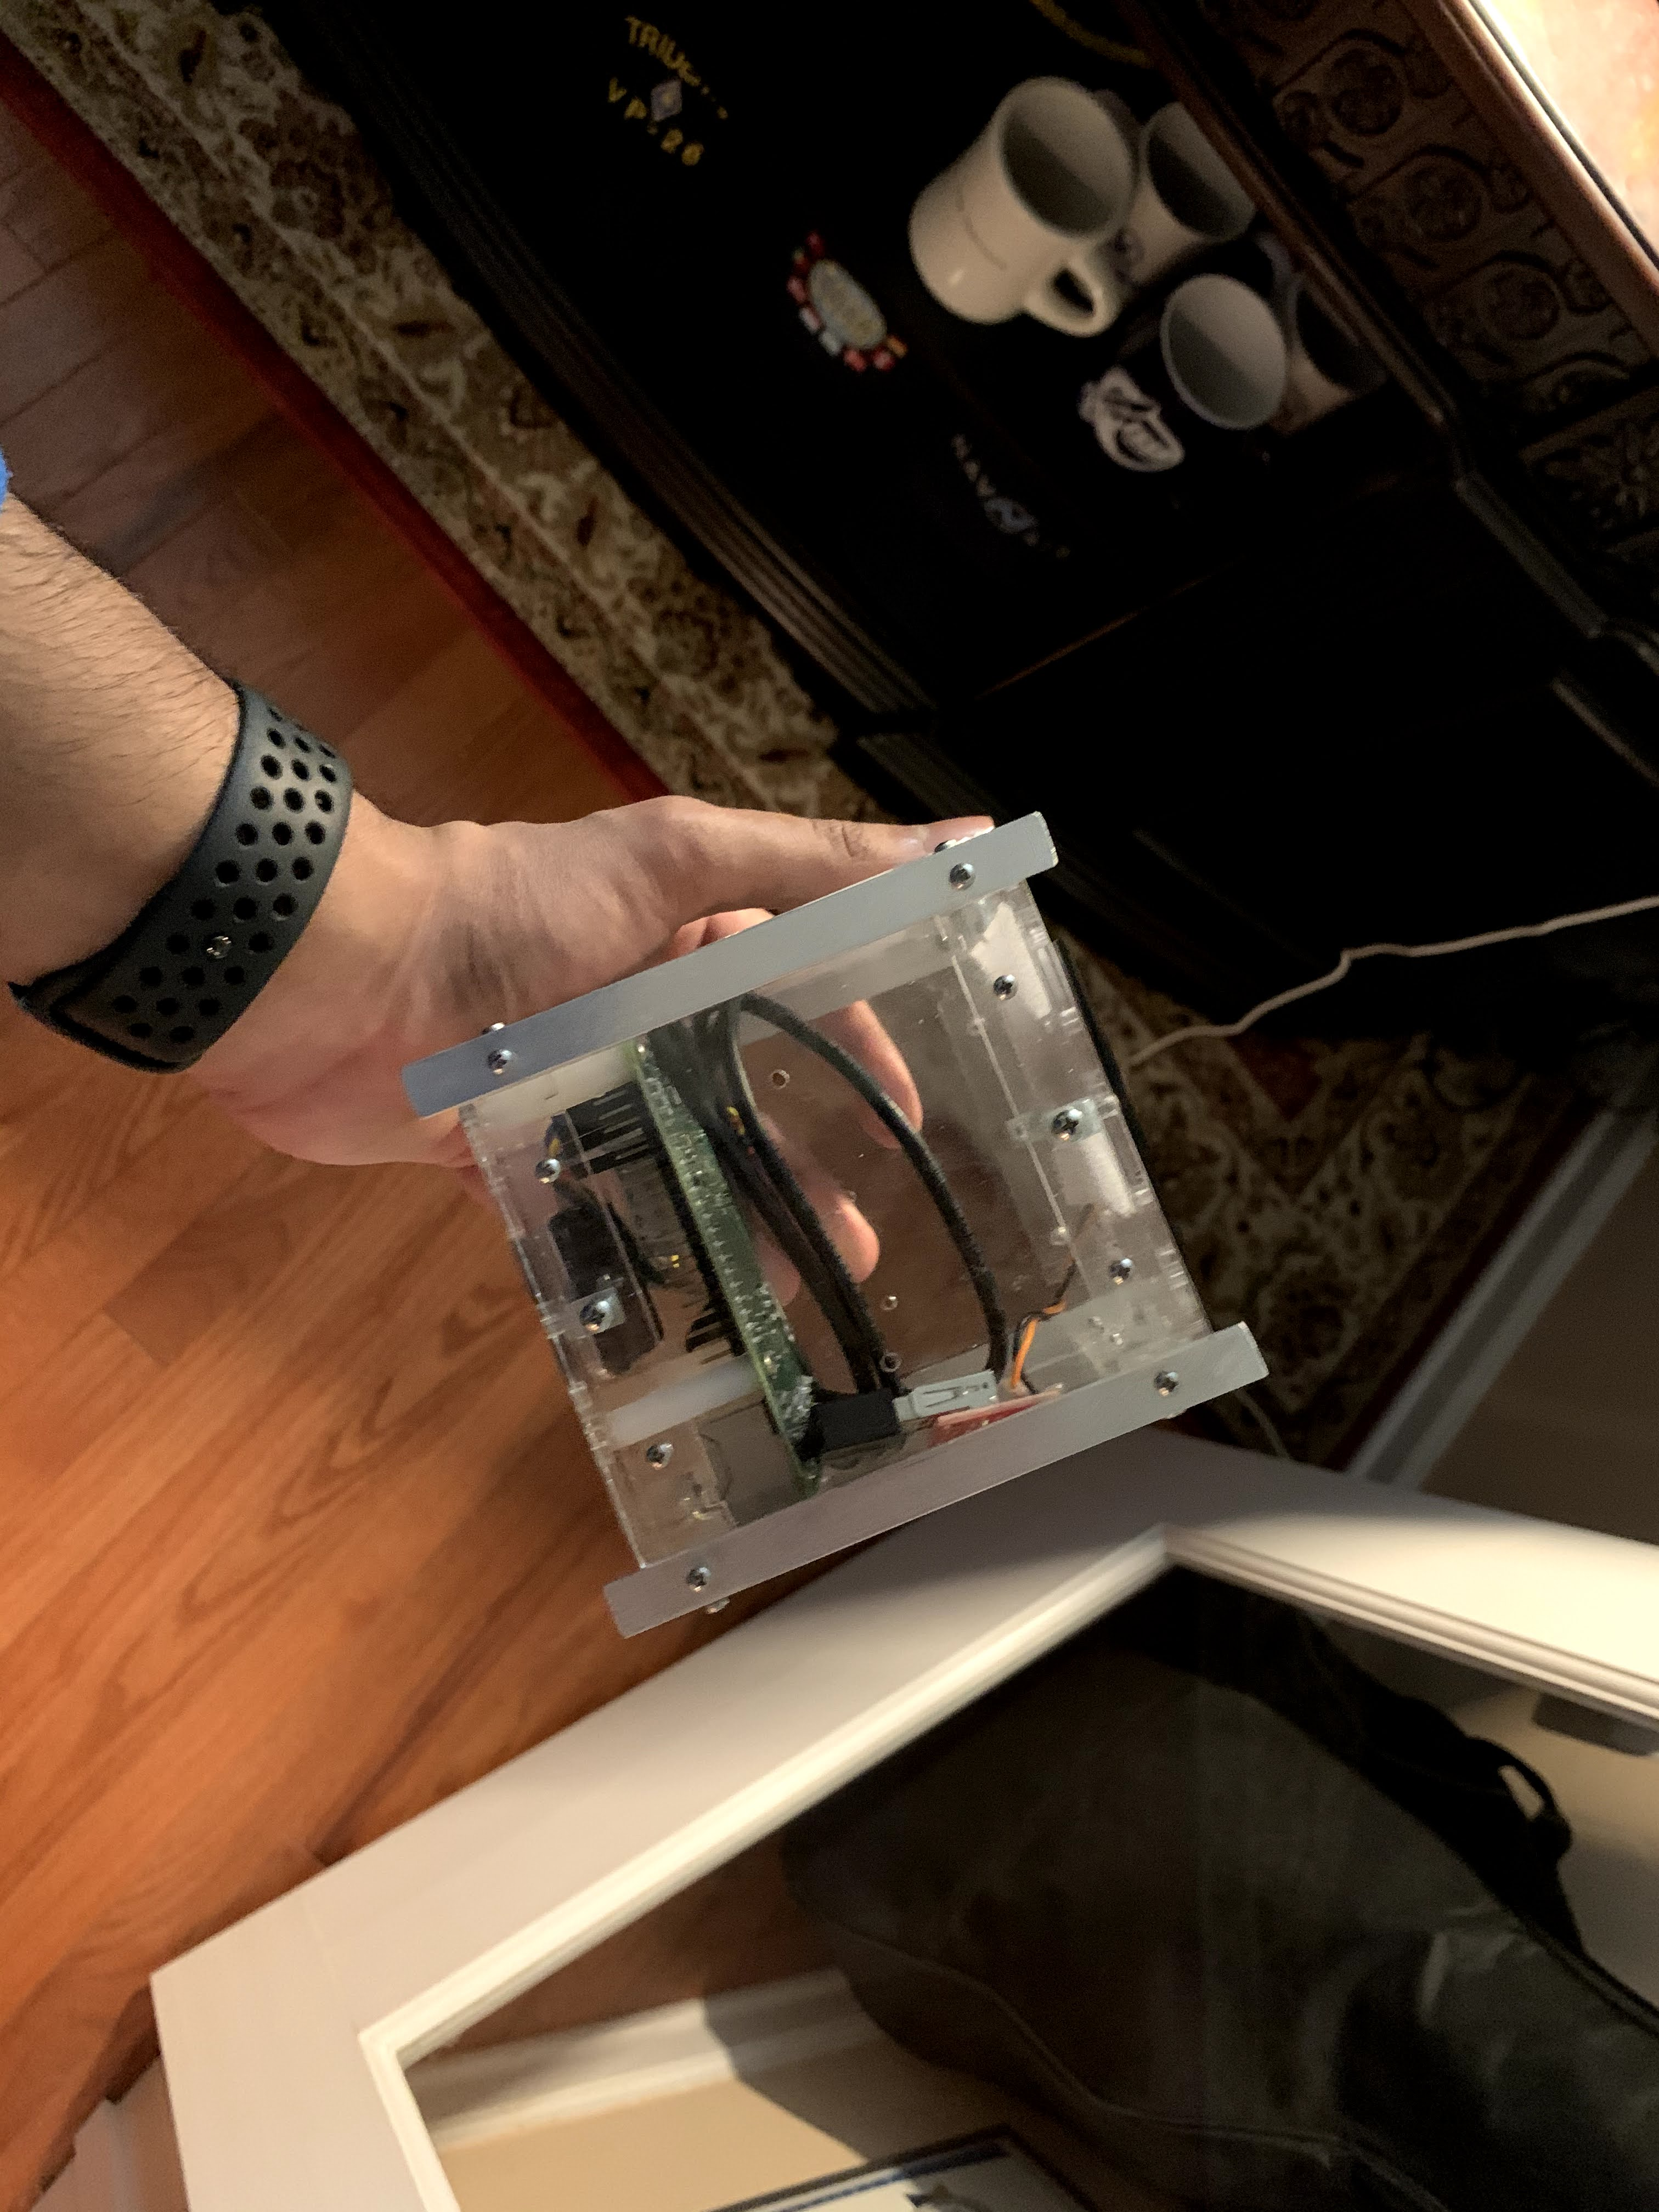Space-debris-cubesat: (382, 782, 1359, 1663)
